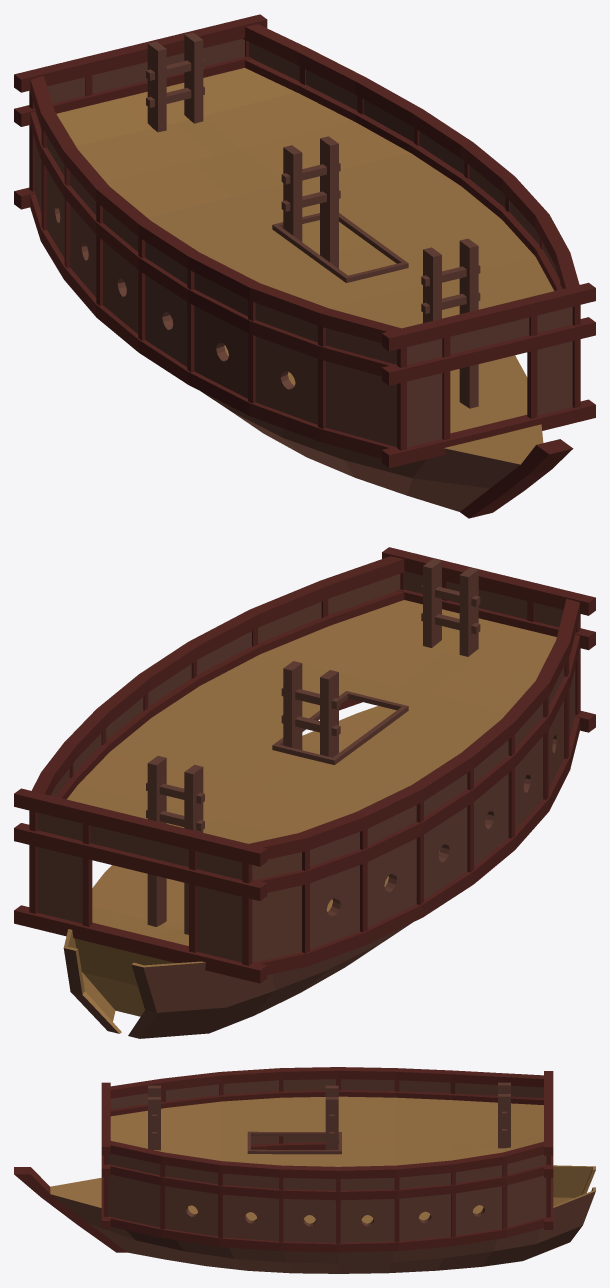
The model's file is seki.glb.
The picture shows the model from 3 angles, top to bottom: view 1: azimuth 30°, elevation 25°; view 2: azimuth 150°, elevation 25°; view 3: azimuth 270°, elevation 25°; orthographic projection. The views are drawn at different scales.
Visible parts, largest first — view 1: seki_hull.008, seki_hull.006, seki_rail_upper.001, seki_hull.002, seki_rail_lower.002, seki_hull.007, seki_hull.005, seki_hull.009, seki_rail_lower.001, seki_hull.010, mast_holder.003, mast_holder.002 (+4 smaller); view 2: seki_hull.008, seki_hull.006, seki_rail_upper.001, seki_hull.002, seki_rail_lower.002, seki_hull.007, seki_hull.005, seki_hull.009, seki_hull.010, seki_rail_lower.001, seki_hull.004, mast_holder.004 (+5 smaller); view 3: seki_hull.006, seki_hull.008, seki_hull.002, seki_rail_upper.001, seki_rail_lower.002, seki_rail_lower.001, seki_hull.009, seki_hull.007, seki_hull.005, seki_tail.001, seki_front.001, seki_hull.019 (+5 smaller).
Part boxes in pixels (left/top/right/bottom): seki_hull.008: left=56, top=68, right=553, bottom=328; seki_hull.006: left=34, top=107, right=572, bottom=447; seki_rail_upper.001: left=30, top=24, right=579, bottom=343; seki_hull.002: left=171, top=220, right=543, bottom=511; seki_rail_lower.002: left=30, top=58, right=562, bottom=376; seki_hull.007: left=29, top=40, right=580, bottom=450; seki_hull.005: left=14, top=14, right=595, bottom=351; seki_hull.009: left=47, top=39, right=559, bottom=278; seki_rail_lower.001: left=30, top=194, right=394, bottom=458; seki_hull.010: left=14, top=56, right=595, bottom=385; mast_holder.003: left=281, top=136, right=340, bottom=268; mast_holder.002: left=421, top=238, right=480, bottom=408; seki_hull.008: left=67, top=600, right=556, bottom=843; seki_hull.006: left=37, top=667, right=575, bottom=962; seki_rail_upper.001: left=31, top=556, right=579, bottom=859; seki_hull.002: left=63, top=706, right=439, bottom=1038; seki_rail_lower.002: left=55, top=591, right=579, bottom=892; seki_hull.007: left=29, top=572, right=580, bottom=965; seki_hull.005: left=14, top=547, right=595, bottom=866; seki_hull.009: left=50, top=571, right=563, bottom=796; seki_hull.010: left=14, top=589, right=595, bottom=900; seki_rail_lower.001: left=256, top=698, right=579, bottom=974; seki_hull.004: left=14, top=711, right=595, bottom=983; mast_holder.004: left=146, top=756, right=204, bottom=934; seki_hull.006: left=108, top=1136, right=546, bottom=1242; seki_hull.008: left=110, top=1096, right=543, bottom=1166; seki_hull.002: left=50, top=1177, right=595, bottom=1273; seki_rail_upper.001: left=110, top=1067, right=543, bottom=1178; seki_rail_lower.002: left=110, top=1090, right=543, bottom=1200; seki_rail_lower.001: left=110, top=1142, right=543, bottom=1252; seki_hull.009: left=110, top=1079, right=543, bottom=1109; seki_hull.007: left=103, top=1079, right=550, bottom=1243; seki_hull.005: left=101, top=1071, right=553, bottom=1155; seki_tail.001: left=553, top=1165, right=595, bottom=1207; seki_front.001: left=14, top=1167, right=127, bottom=1252; seki_hull.019: left=247, top=1131, right=341, bottom=1154.
Bounding box in the file's own units: 3.79 × 2.71 × 8.98.
